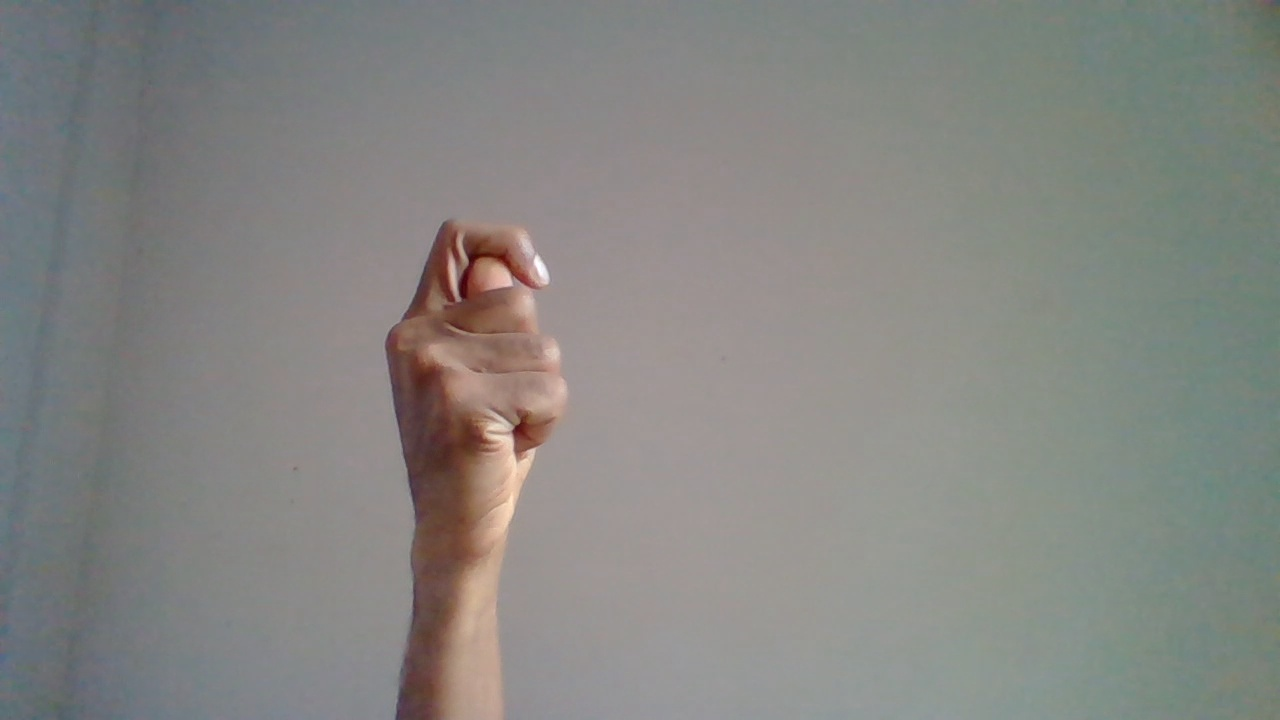che: (384, 214, 573, 691)
